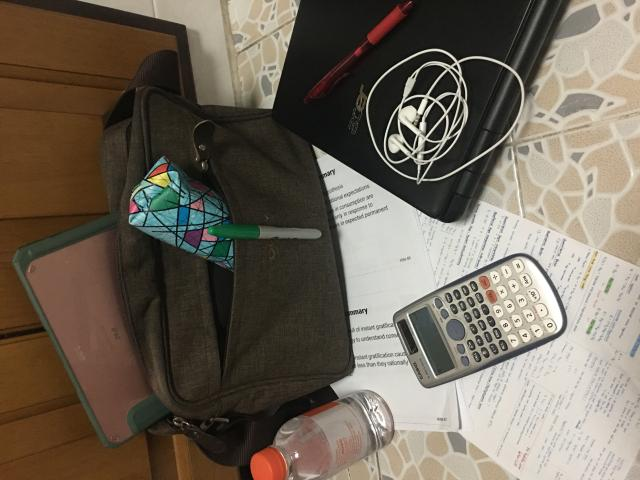Pen: (304, 0, 414, 104), (208, 224, 321, 239)
bottle: (251, 390, 394, 480)
paper: (278, 152, 640, 479)
wire: (365, 49, 524, 182)
